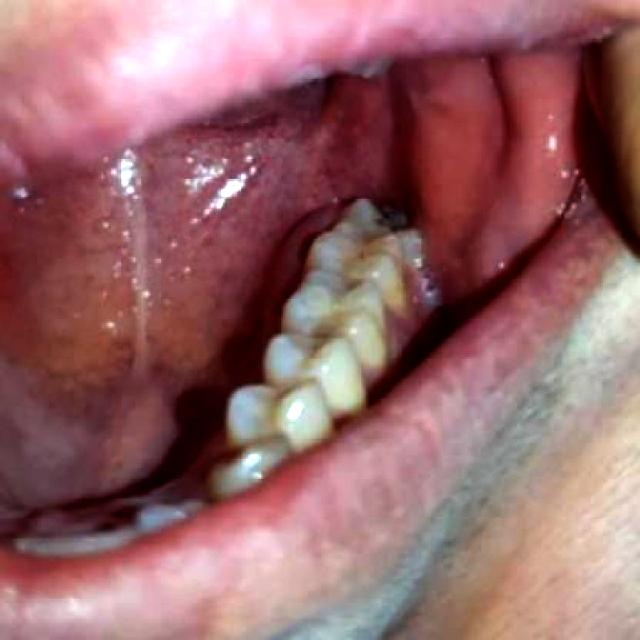Plaque: (371, 212, 389, 230), (355, 246, 373, 263)
